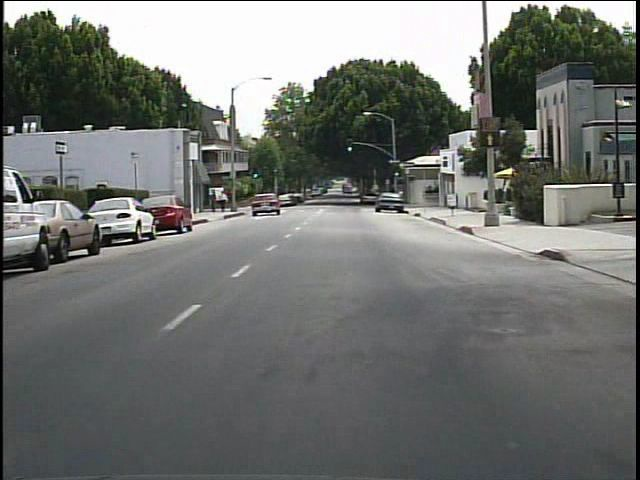person: (208, 190, 220, 215), (219, 190, 230, 214)
